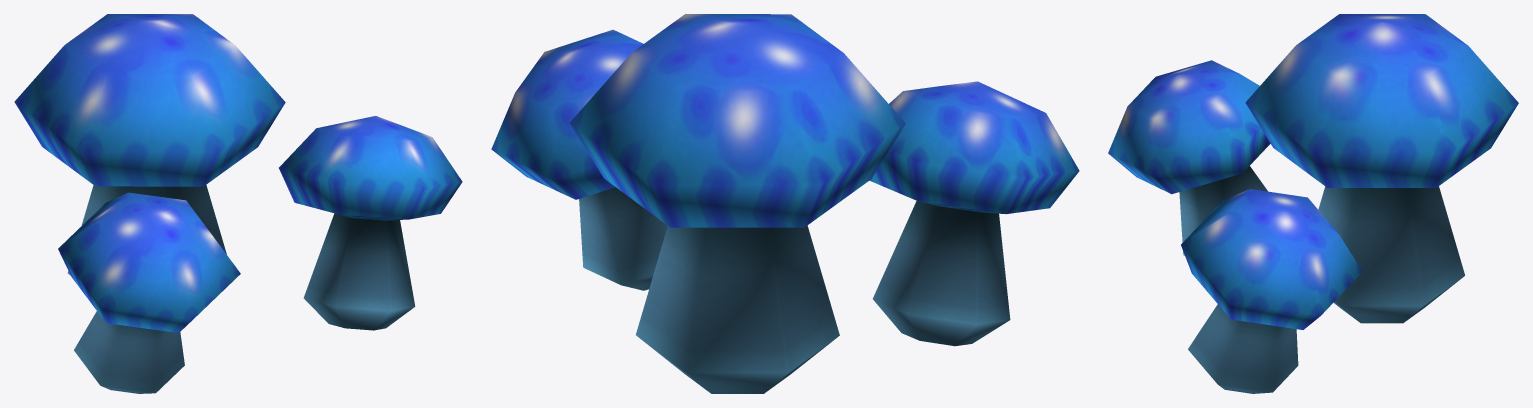
Rendered from Mushroom_07Group.gltf.
The picture shows the model from 3 angles, left to right: view 1: azimuth 30°, elevation 25°; view 2: azimuth 150°, elevation 25°; view 3: azimuth 270°, elevation 25°; orthographic projection. The views are drawn at different scales.
Visible parts, largest first — view 1: Mushroom_07Group(Clone); view 2: Mushroom_07Group(Clone); view 3: Mushroom_07Group(Clone).
Part boxes in pixels (x1,y1,x2,y2): Mushroom_07Group(Clone): (14,14,462,393); Mushroom_07Group(Clone): (491,14,1079,393); Mushroom_07Group(Clone): (1108,14,1518,393).
Bounding box in the file's own units: 0.558 × 0.3903 × 0.4933.
1 material, 1 textured.
